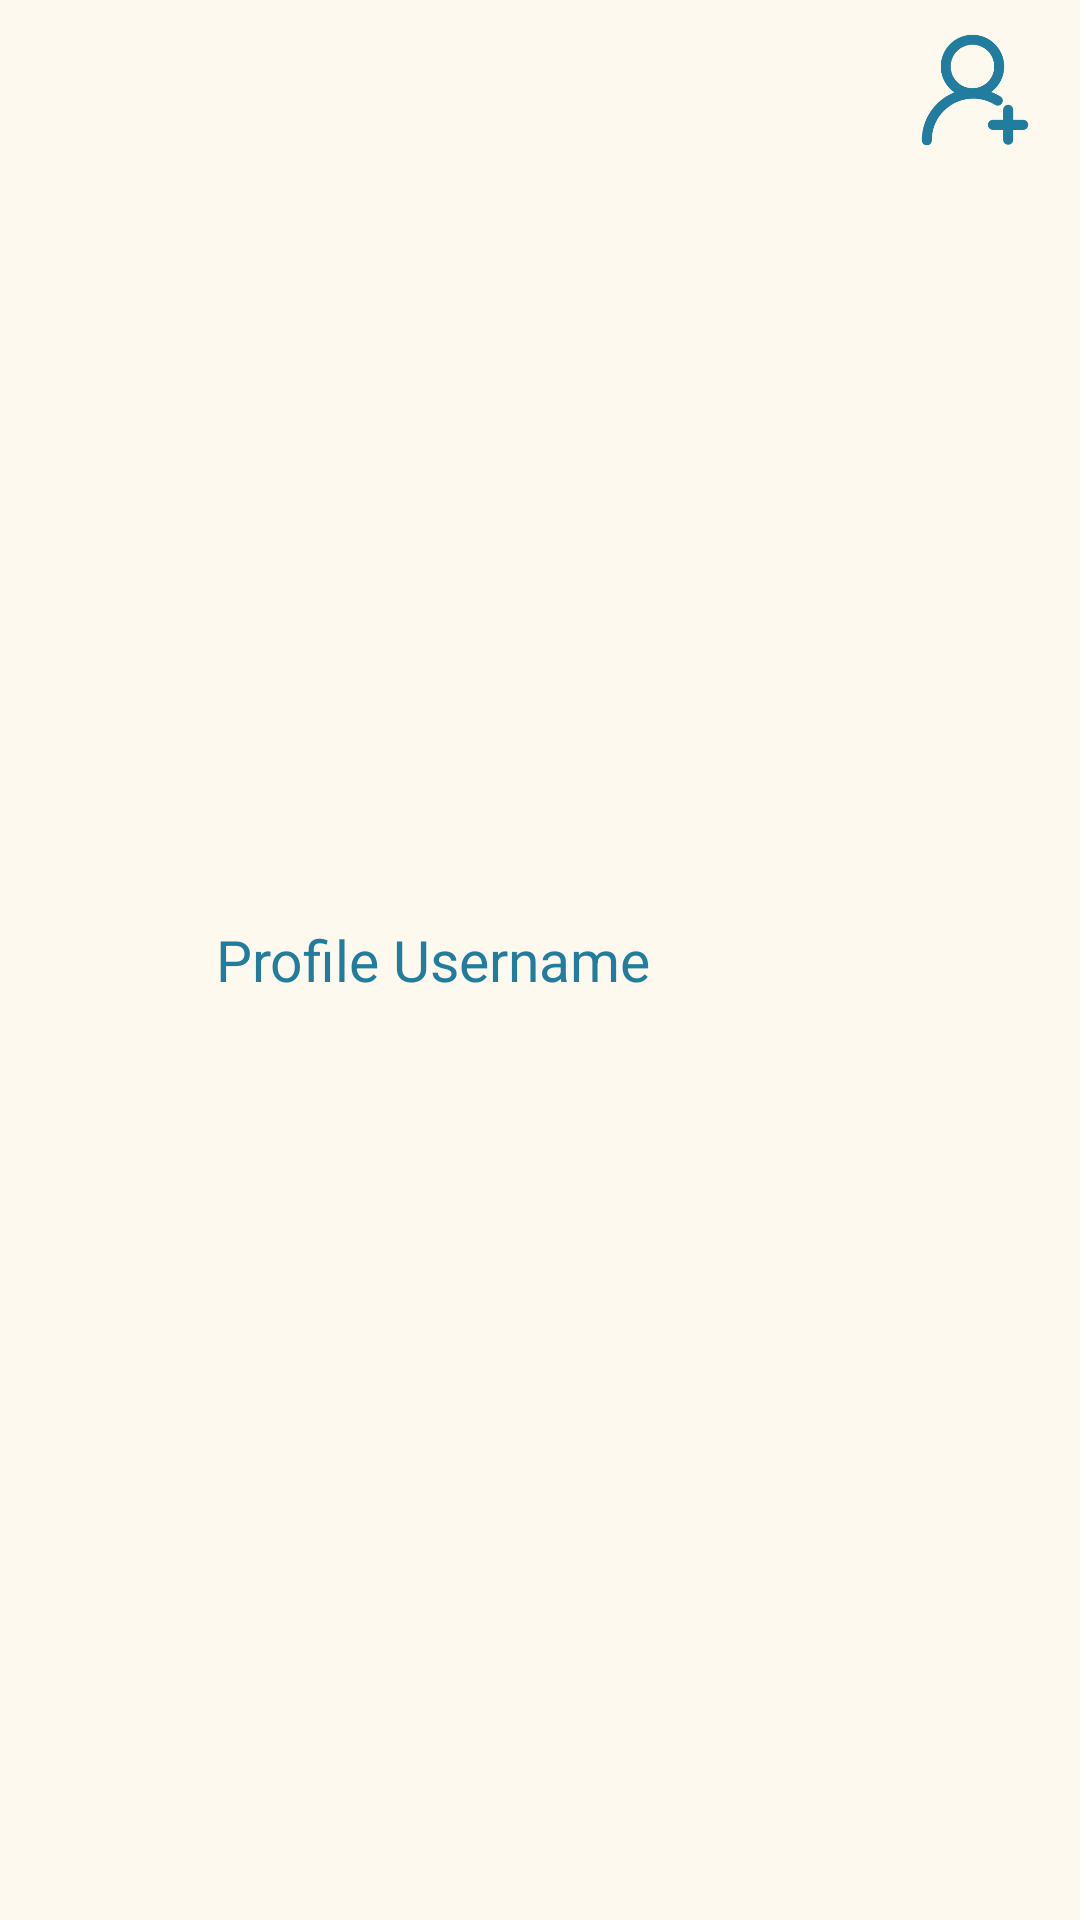

Screen size 1080x1920. Icon name, then its center in pixels as (x=x, y=y):
add: (x=975, y=90)
